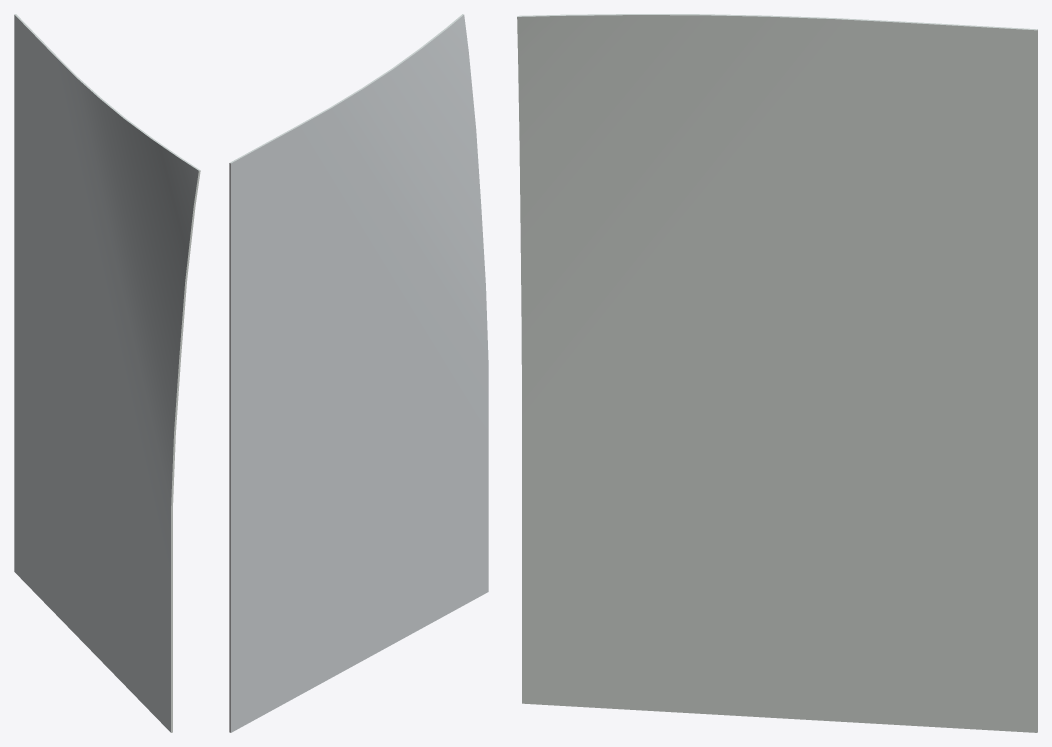
The model's file is paper.fbx.
3 views of the same model, side by side, from view 1: azimuth 30°, elevation 25°; view 2: azimuth 150°, elevation 25°; view 3: azimuth 270°, elevation 25° (orthographic). The views are drawn at different scales.
Visible parts, largest first — view 1: node_id30; view 2: node_id30; view 3: node_id30.
Part boxes in pixels (bbox=[...]): node_id30: bbox=[14, 14, 200, 732]; node_id30: bbox=[229, 14, 488, 732]; node_id30: bbox=[517, 14, 1037, 732].
Bounding box in the file's own units: 0.0475 × 0.512 × 0.3439.
1 material, 1 textured.
